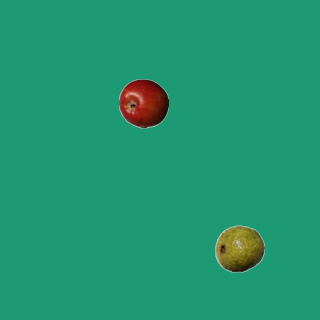Apple Braeburn: (118, 78, 168, 128)
Guava: (214, 223, 264, 273)
